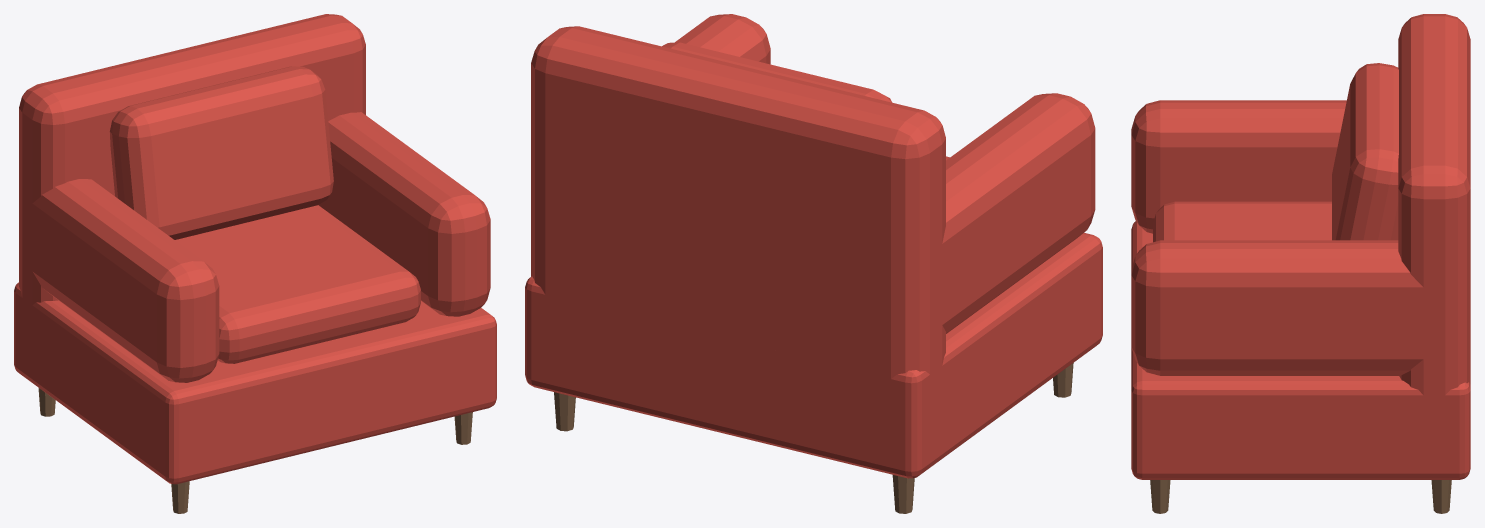
The model's file is armchair.glb.
3 renders of one model, left to right at view 1: azimuth 30°, elevation 25°; view 2: azimuth 150°, elevation 25°; view 3: azimuth 270°, elevation 25°, orthographic. The views are drawn at different scales.
Parts seen in each view (by area): view 1: armchair; view 2: armchair; view 3: armchair.
Part boxes in pixels (x1,y1,x2,y2): armchair: [14, 14, 496, 513]; armchair: [525, 14, 1102, 513]; armchair: [1131, 14, 1470, 513].
Size of the model in its own units: 1.12 by 1.06 by 0.94.
